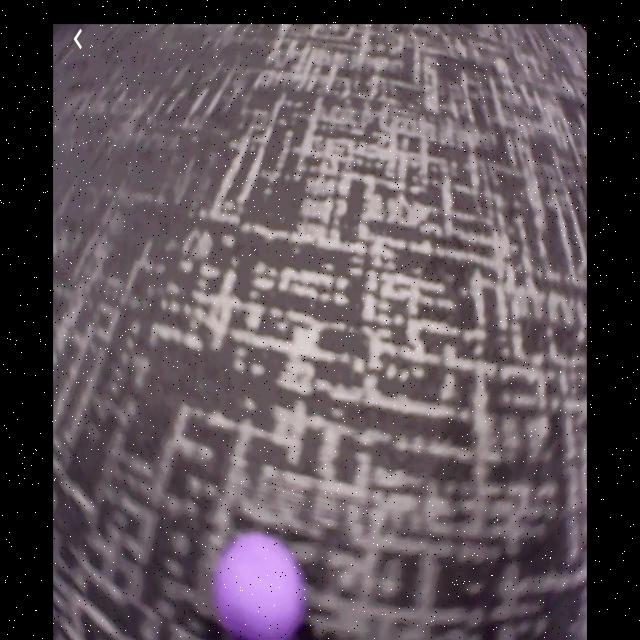ball: (215, 531, 298, 640)
